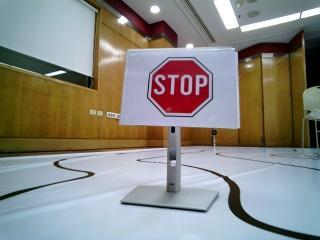stop: (127, 48, 231, 118)
